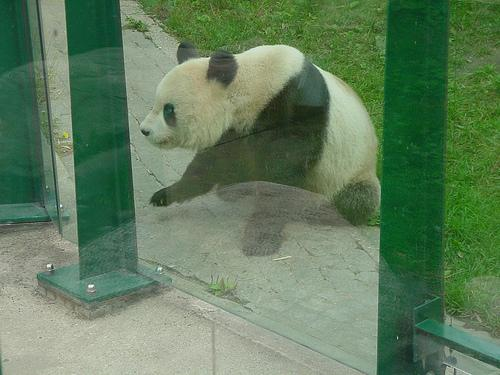panda: (140, 42, 380, 225)
